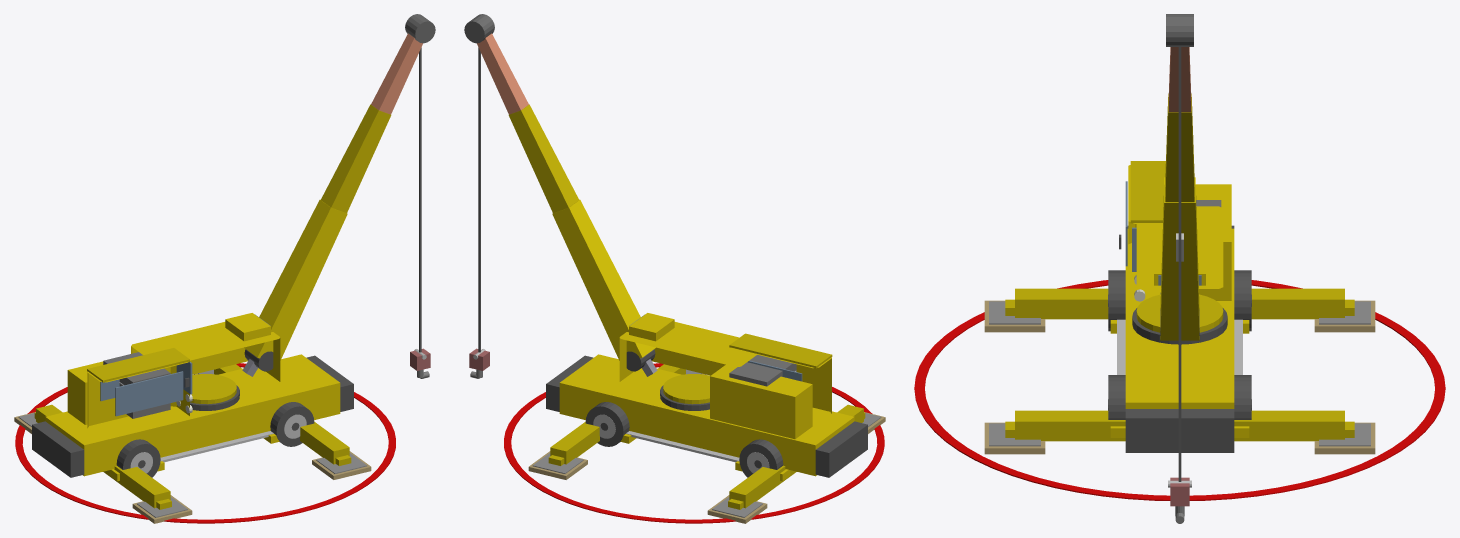
Rendered from crane_TADANO_GR-250N.glb.
3 renders of one model, left to right at view 1: azimuth 30°, elevation 25°; view 2: azimuth 150°, elevation 25°; view 3: azimuth 270°, elevation 25°, orthographic. The views are drawn at different scales.
Parts seen in each view (by area): view 1: crane; view 2: crane; view 3: crane.
Boxes of the visible parts, x1,y1,x2,y2 form: crane: (14,14,435,523); crane: (464,14,885,523); crane: (914,14,1445,523).
Bounding box in the file's own units: 14.46 × 13.21 × 12.24.
